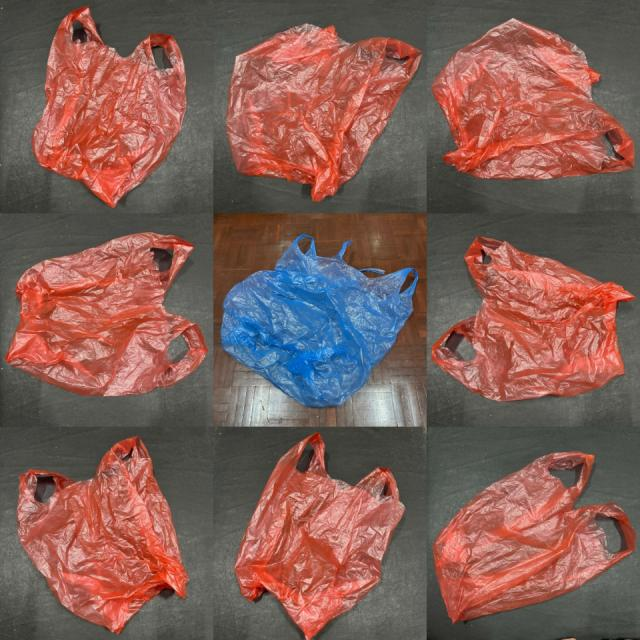Single-layer Plastic: (235, 432, 405, 639), (434, 451, 636, 622), (226, 24, 421, 201), (221, 235, 418, 407), (18, 436, 189, 632), (431, 236, 634, 401), (6, 232, 206, 396), (431, 19, 634, 179), (32, 6, 186, 207)
